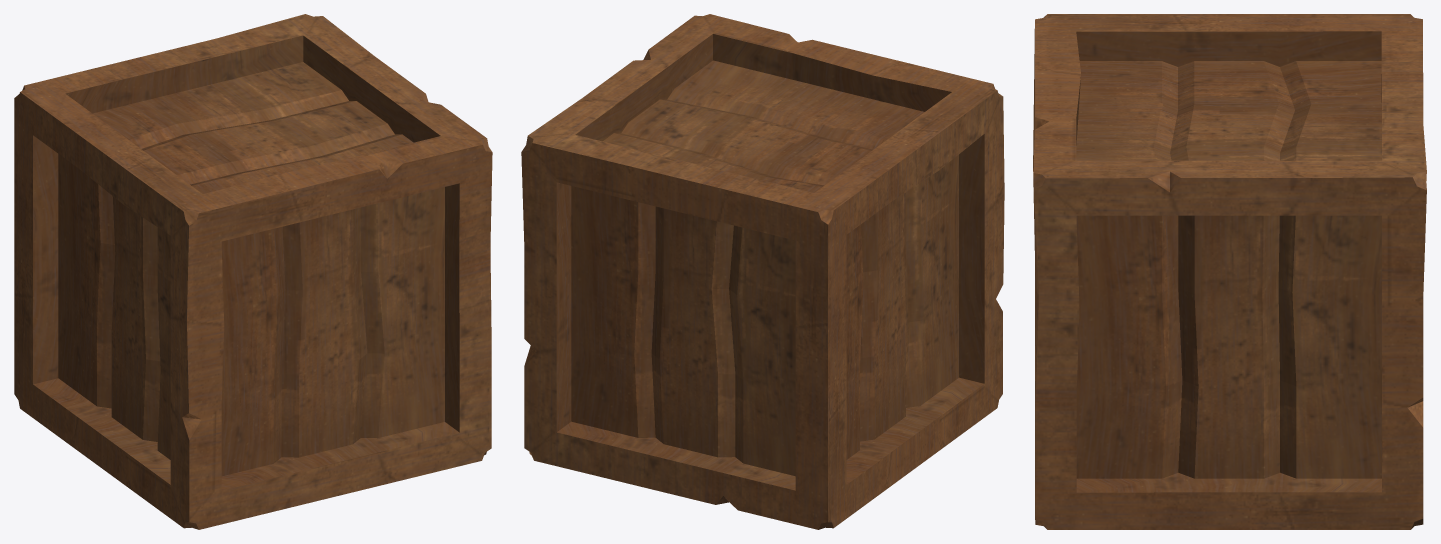
File: Item_Instant_Barrel_02.fbx
3 views of the same model, side by side, from view 1: azimuth 30°, elevation 25°; view 2: azimuth 150°, elevation 25°; view 3: azimuth 270°, elevation 25° (orthographic). The views are drawn at different scales.
Visible parts, largest first — view 1: Item_Instant_Barrel_02; view 2: Item_Instant_Barrel_02; view 3: Item_Instant_Barrel_02.
Part boxes in pixels (x1=…): Item_Instant_Barrel_02: x1=14, y1=14, x2=492, y2=529; Item_Instant_Barrel_02: x1=521, y1=14, x2=1004, y2=529; Item_Instant_Barrel_02: x1=1033, y1=14, x2=1426, y2=529.
Size of the model in its own units: 121 by 120 by 122.
